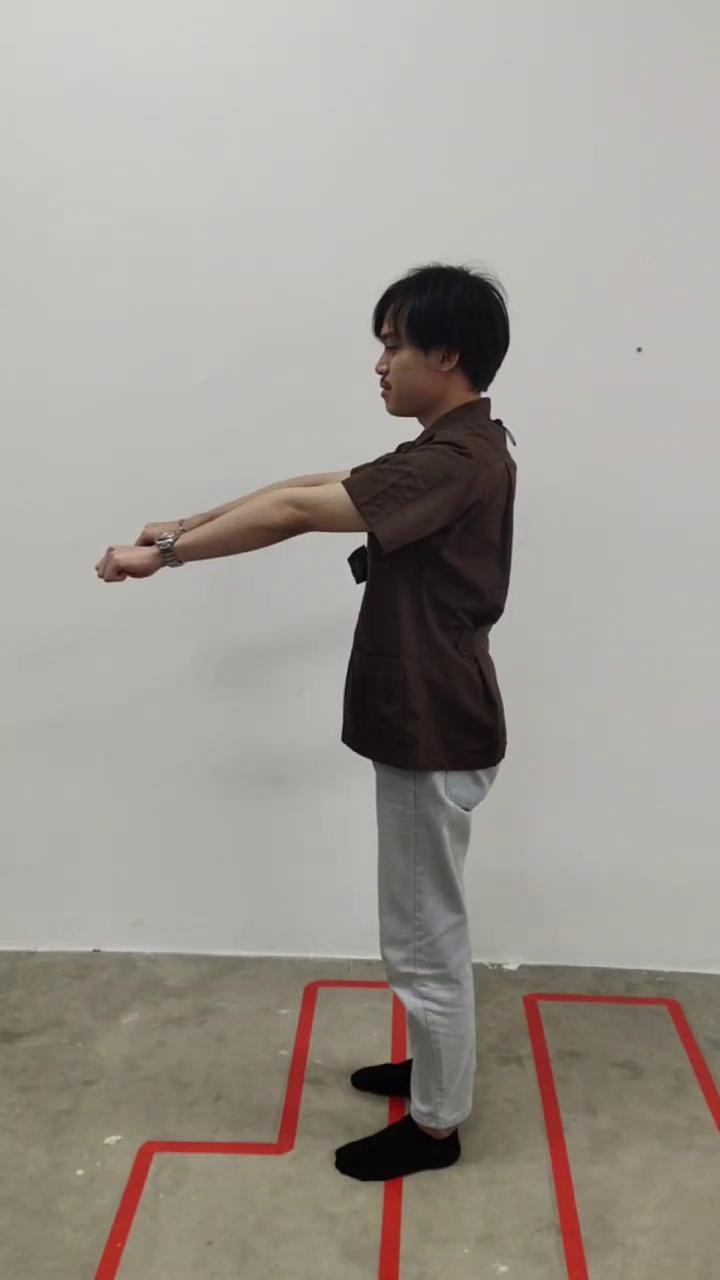squat up: (95, 265, 515, 1180)
